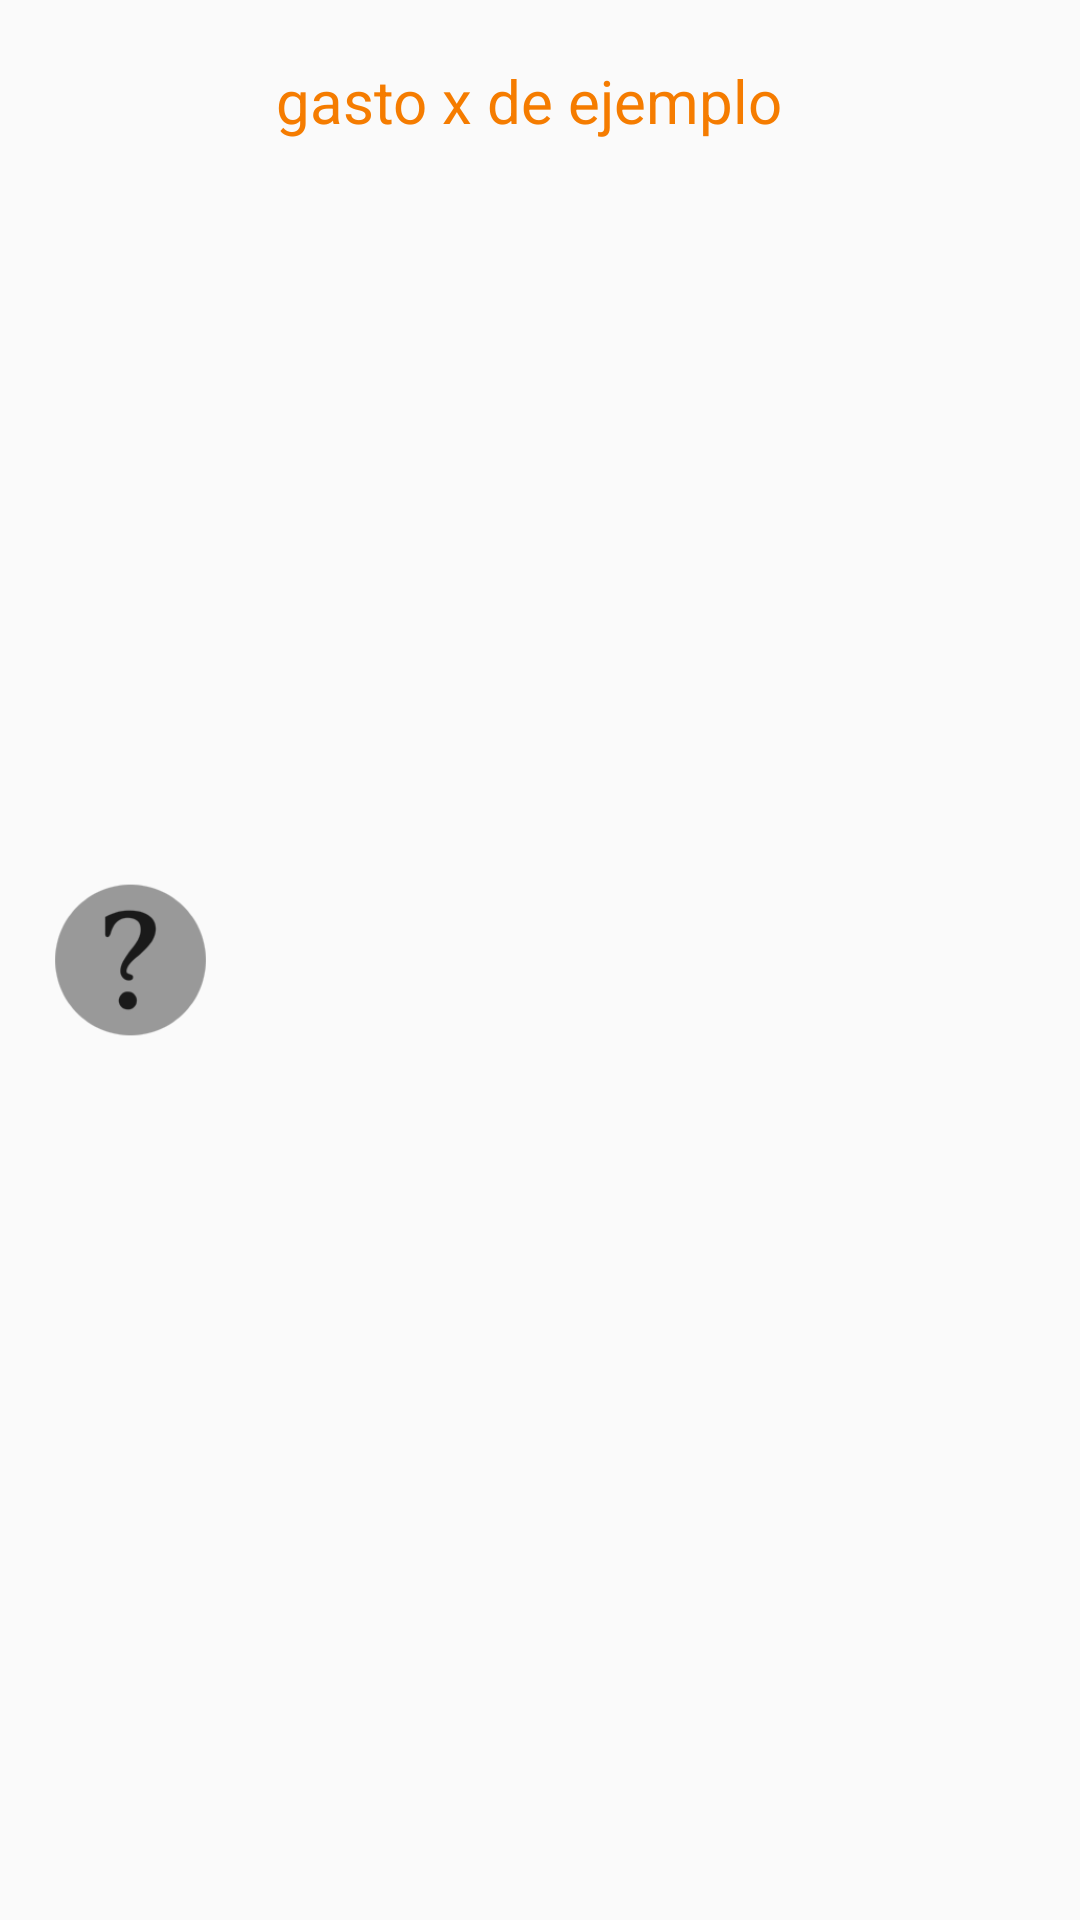

Screen size 1080×1920. Icon name, then its box in pixels as (x1, y1, x2, y2):
interrogante: (55, 884, 206, 1036)
